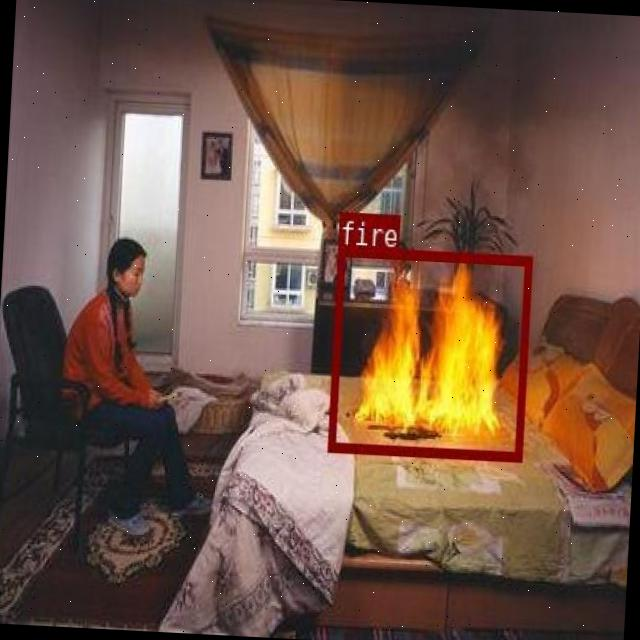fire: (328, 245, 530, 460)
